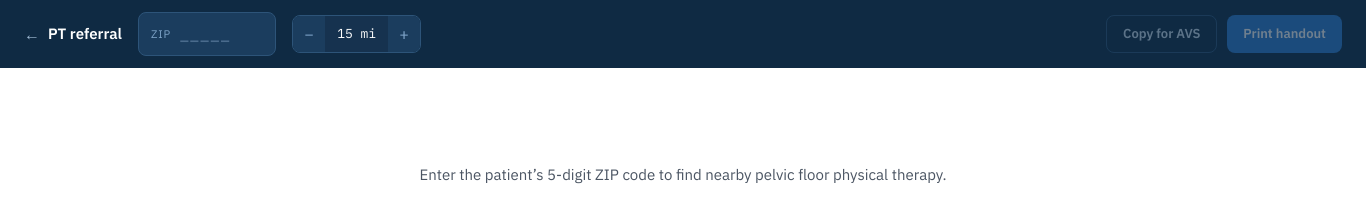
Test: SearchTherapists result banners › says so when a search genuinely found nothing, instead of the onboarding prompt
Type "54235" into the field named "Patient ZIP code" at (227, 34), box [179,13,275,54]
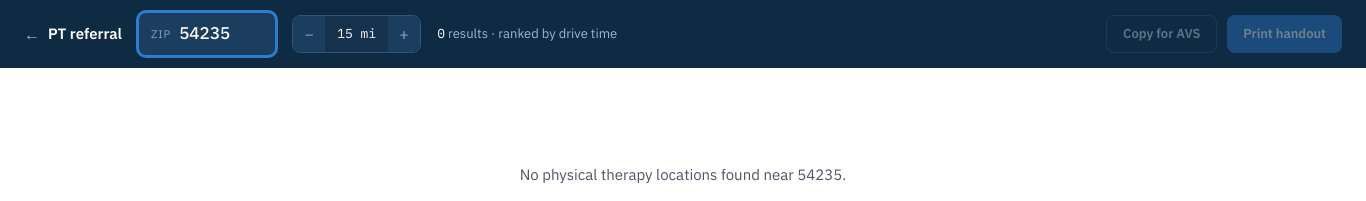
Result: the text "No physical therapy locations found near 54235." is shown at [520,164,846,184]
